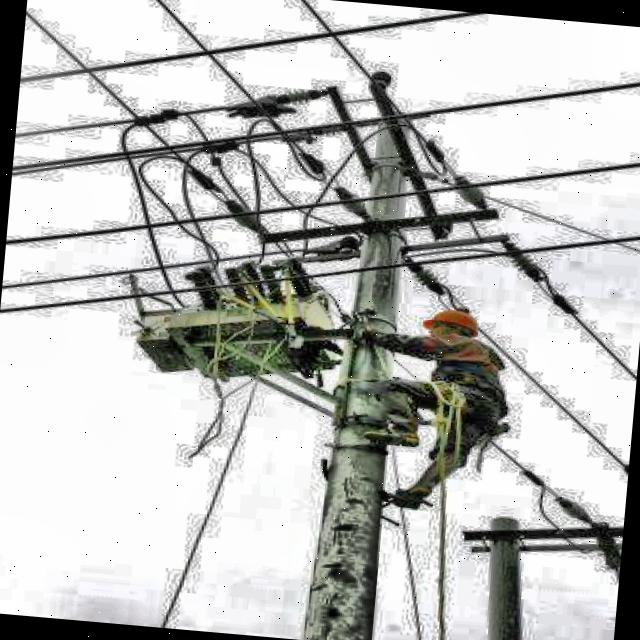helmet: (412, 301, 484, 351)
